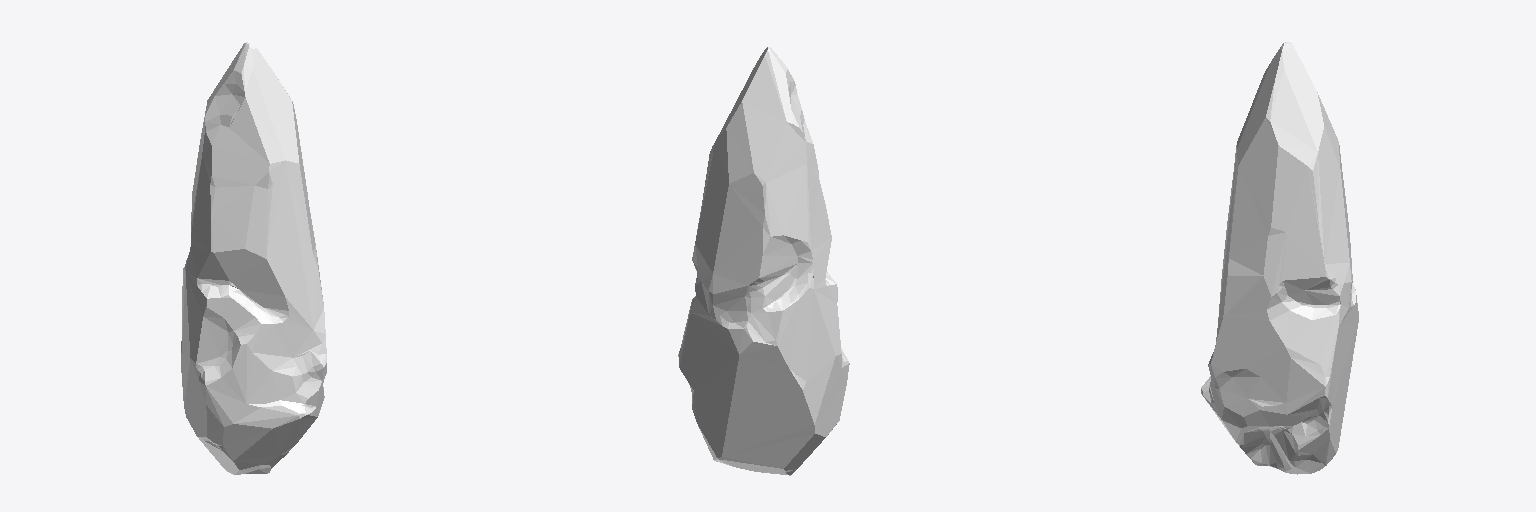
File: Crystal.obj
3 renders of one model, left to right at view 1: azimuth 30°, elevation 25°; view 2: azimuth 150°, elevation 25°; view 3: azimuth 270°, elevation 25°, orthographic.
Visible parts, largest first — view 1: Crystal_Group20682.001; view 2: Crystal_Group20682.001; view 3: Crystal_Group20682.001.
Boxes of the visible parts, <box> form: Crystal_Group20682.001: <box>181,42,326,474</box>; Crystal_Group20682.001: <box>678,47,849,475</box>; Crystal_Group20682.001: <box>1201,42,1358,474</box>.
Bounding box in the file's own units: 1.58 × 4.79 × 1.63.